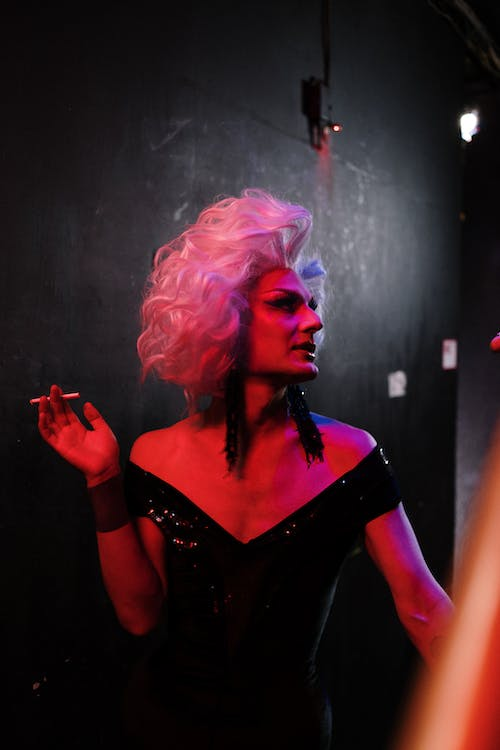cigarette: (28, 392, 81, 405)
